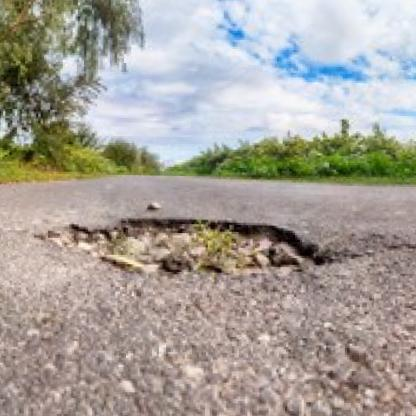pothole: (29, 214, 338, 281)
